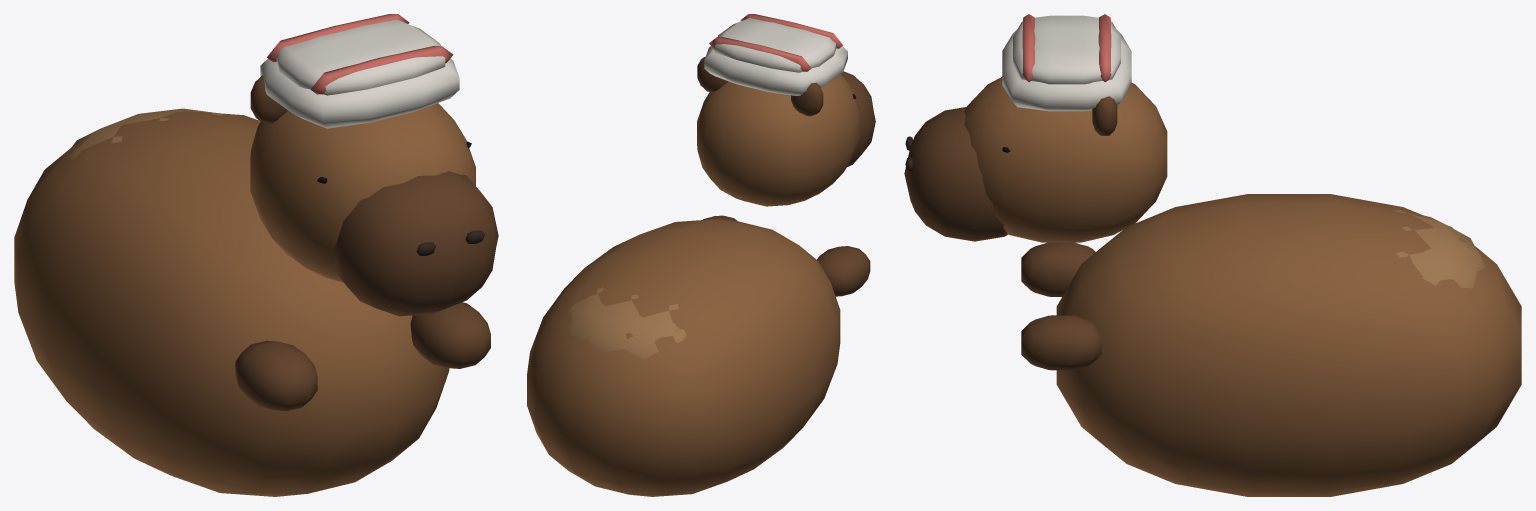
Rendered from capybara.glb.
3 renders of one model, left to right at view 1: azimuth 30°, elevation 25°; view 2: azimuth 150°, elevation 25°; view 3: azimuth 270°, elevation 25°, orthographic. The views are drawn at different scales.
Visible parts, largest first — view 1: Capy_Body, Capy_Head; view 2: Capy_Body, Capy_Head; view 3: Capy_Body, Capy_Head.
Boxes of the visible parts, x1=… form: Capy_Body: x1=14, y1=108, x2=490, y2=496; Capy_Head: x1=250, y1=14, x2=498, y2=316; Capy_Body: x1=527, y1=215, x2=870, y2=496; Capy_Head: x1=697, y1=14, x2=875, y2=206; Capy_Body: x1=1021, y1=194, x2=1521, y2=496; Capy_Head: x1=904, y1=14, x2=1167, y2=242.
Bounding box in the file's own units: 0.5848 × 0.8902 × 1.14.
